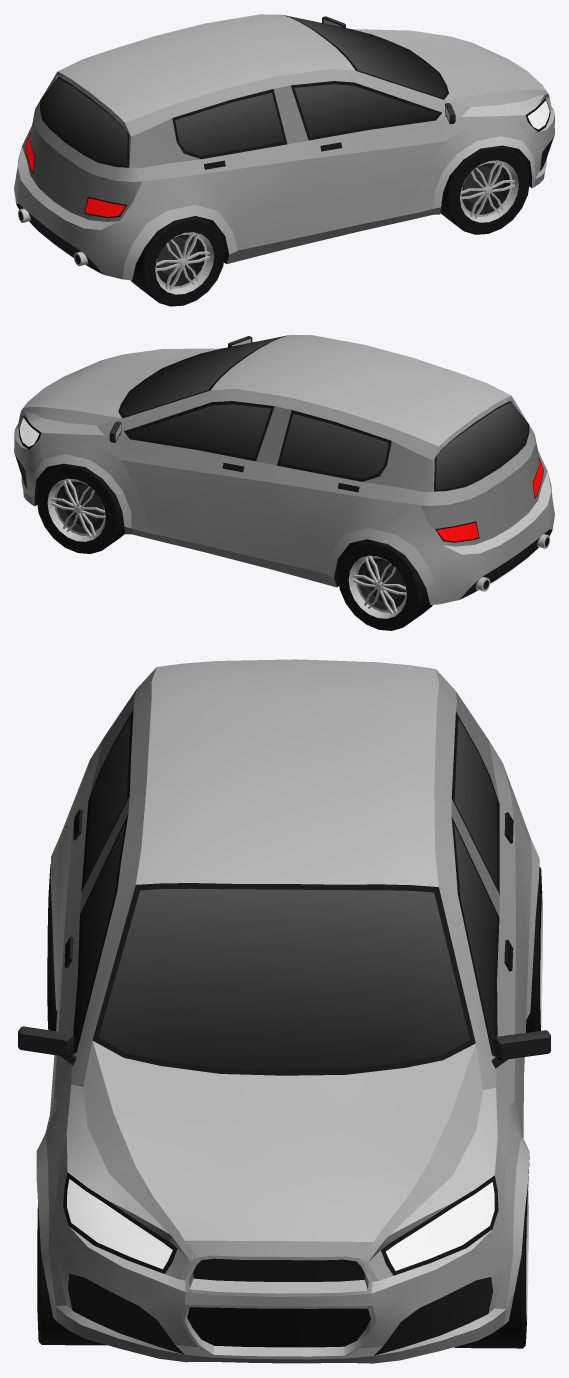
Rendered from Car_261.glb.
3 views of the same model, one above another, from view 1: azimuth 30°, elevation 25°; view 2: azimuth 150°, elevation 25°; view 3: azimuth 270°, elevation 25° (orthographic). The views are drawn at different scales.
Parts seen in each view (by area): view 1: Car_261, wheel_3_Car_261_Wheel_2R, wheel_1_Car_261_Wheel_1R; view 2: Car_261, wheel_2_Car_261_Wheel_2L, wheel_0_Car_261_Wheel_1L; view 3: Car_261, wheel_0_Car_261_Wheel_1L, wheel_1_Car_261_Wheel_1R, wheel_2_Car_261_Wheel_2L, wheel_3_Car_261_Wheel_2R.
Boxes of the visible parts, bbox=[...] form: Car_261: bbox=[14, 14, 554, 280]; wheel_3_Car_261_Wheel_2R: bbox=[131, 216, 225, 306]; wheel_1_Car_261_Wheel_1R: bbox=[440, 145, 529, 234]; Car_261: bbox=[14, 335, 554, 604]; wheel_2_Car_261_Wheel_2L: bbox=[338, 539, 432, 630]; wheel_0_Car_261_Wheel_1L: bbox=[36, 463, 125, 553]; Car_261: bbox=[18, 659, 550, 1363]; wheel_0_Car_261_Wheel_1L: bbox=[454, 1184, 528, 1348]; wheel_1_Car_261_Wheel_1R: bbox=[37, 1204, 106, 1345]; wheel_2_Car_261_Wheel_2L: bbox=[526, 867, 542, 1032]; wheel_3_Car_261_Wheel_2R: bbox=[47, 864, 57, 1031].
Bounding box in the file's own units: 3.75 × 1.4 × 1.8.
Materials: 3 (3 with a texture image).
